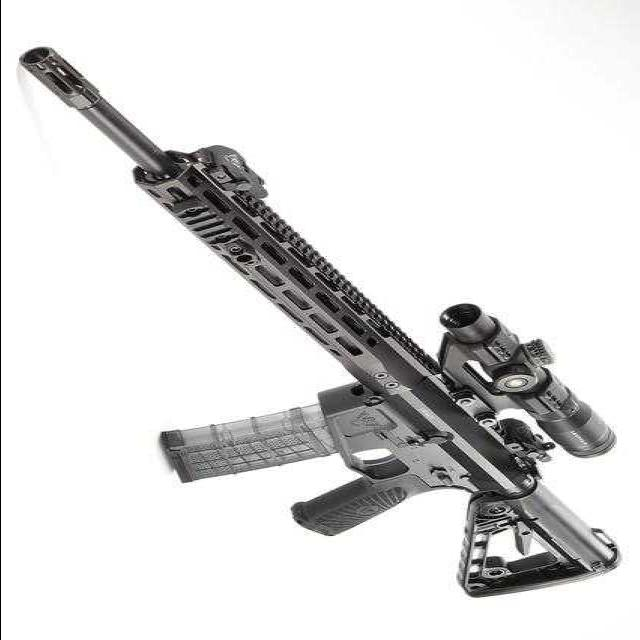heavyweapon: (18, 46, 640, 609)
